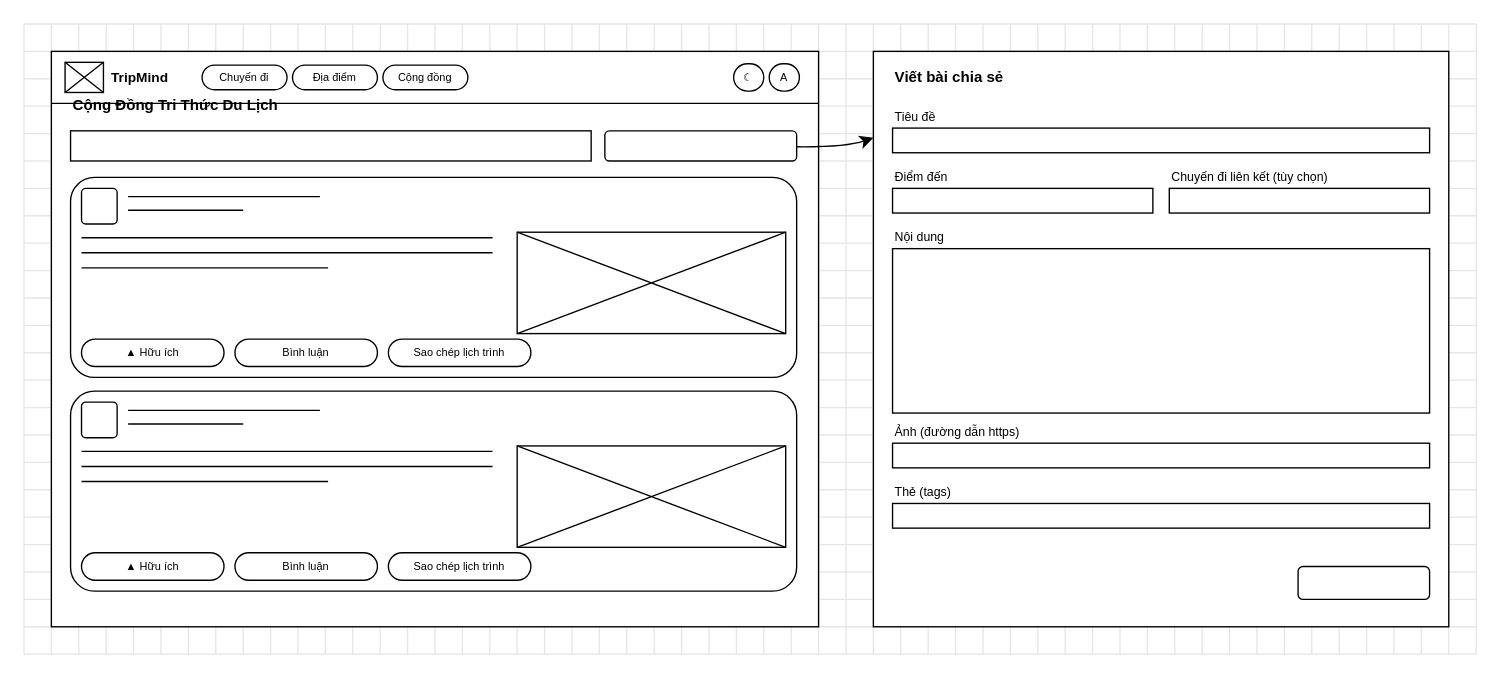
Image size: 1502x680. Some labels were removed from this diagram. Here are the shapes that lost their labels. From the top down, the box of each, then its label:
(603, 129, 797, 161): + Viết bài chia sẻ
(1297, 565, 1430, 599): Đăng bài
